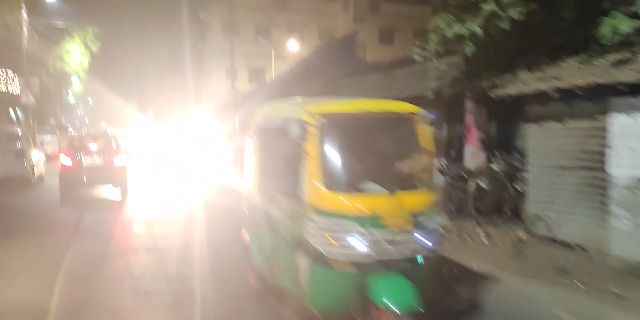Autorickshaw: (253, 96, 452, 309)
Car: (55, 125, 130, 196)
